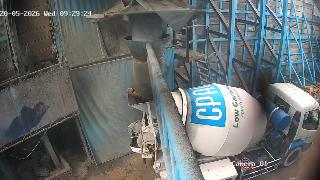cement_mixer_truck: (126, 82, 320, 180)
swing_chute: (125, 32, 174, 98)
